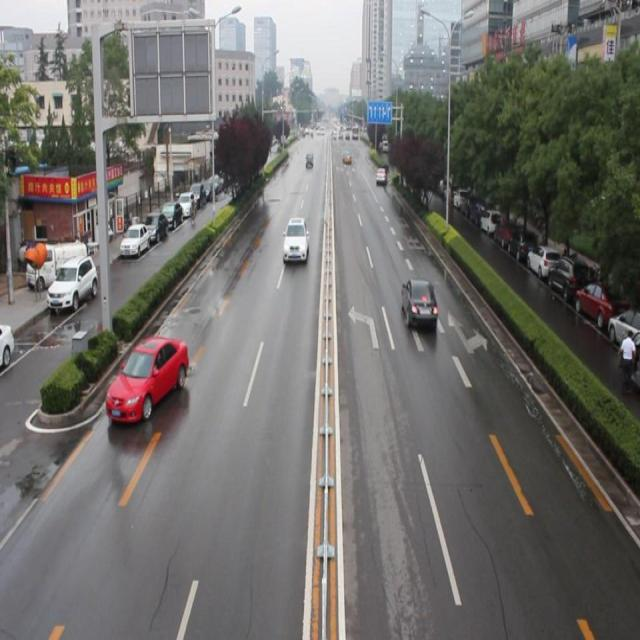car: (108, 336, 190, 418), (400, 276, 438, 328), (281, 215, 309, 264), (374, 164, 386, 187)
truck: (304, 152, 314, 170)
